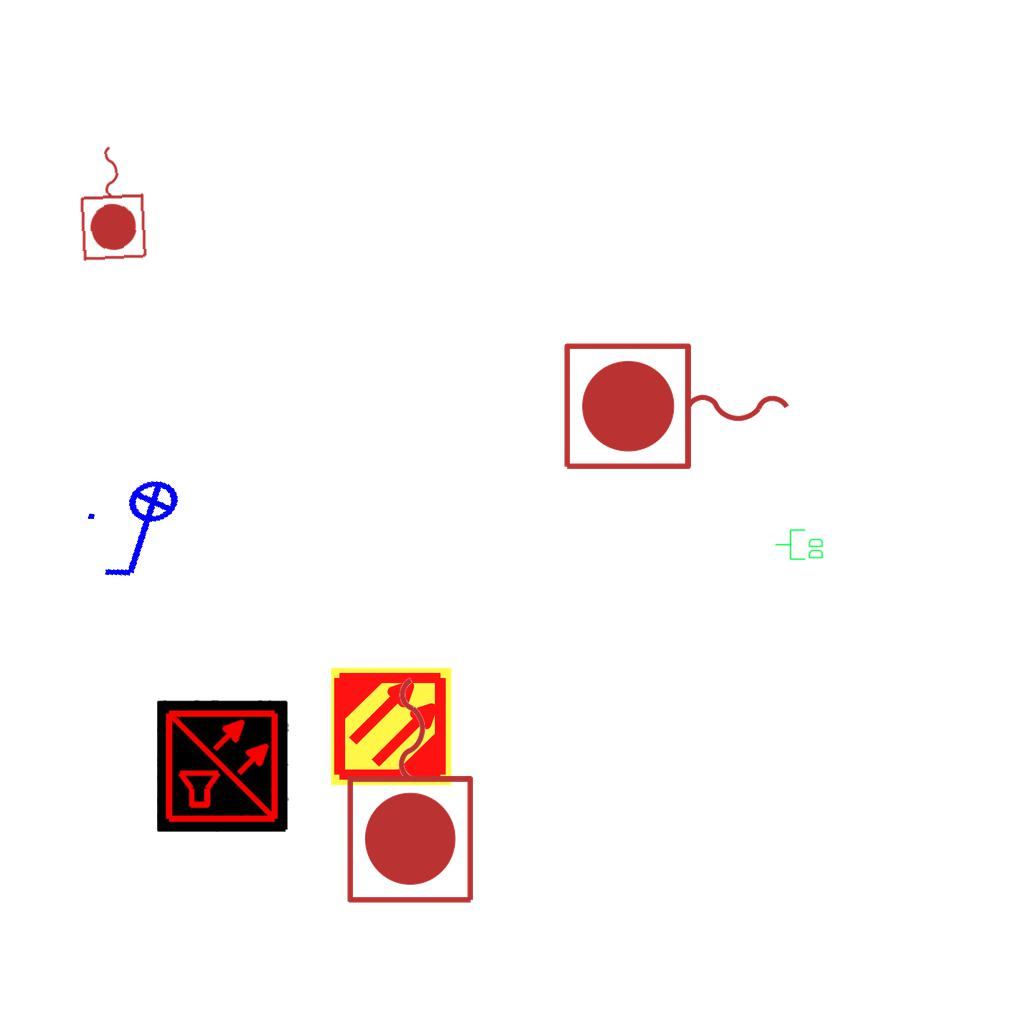ASR_Ansaugrauchmelder: (329, 664, 454, 789)
Ausschalter_beleuchtet: (77, 470, 209, 592)
Datenanschluss_zweifach: (774, 528, 825, 562)
OKW_Multisensormelder_(Kombination_optischer_Rauch-Kahlenmonoxid_Waerme-Melder): (157, 700, 289, 832)
Zugtaster: (556, 336, 800, 480), (340, 667, 484, 911), (73, 139, 153, 265)
